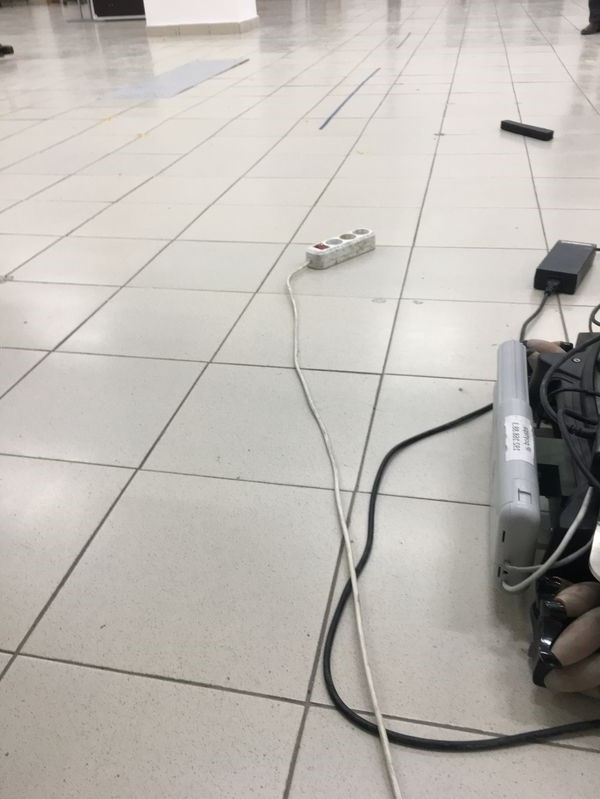socket: (294, 222, 383, 276)
